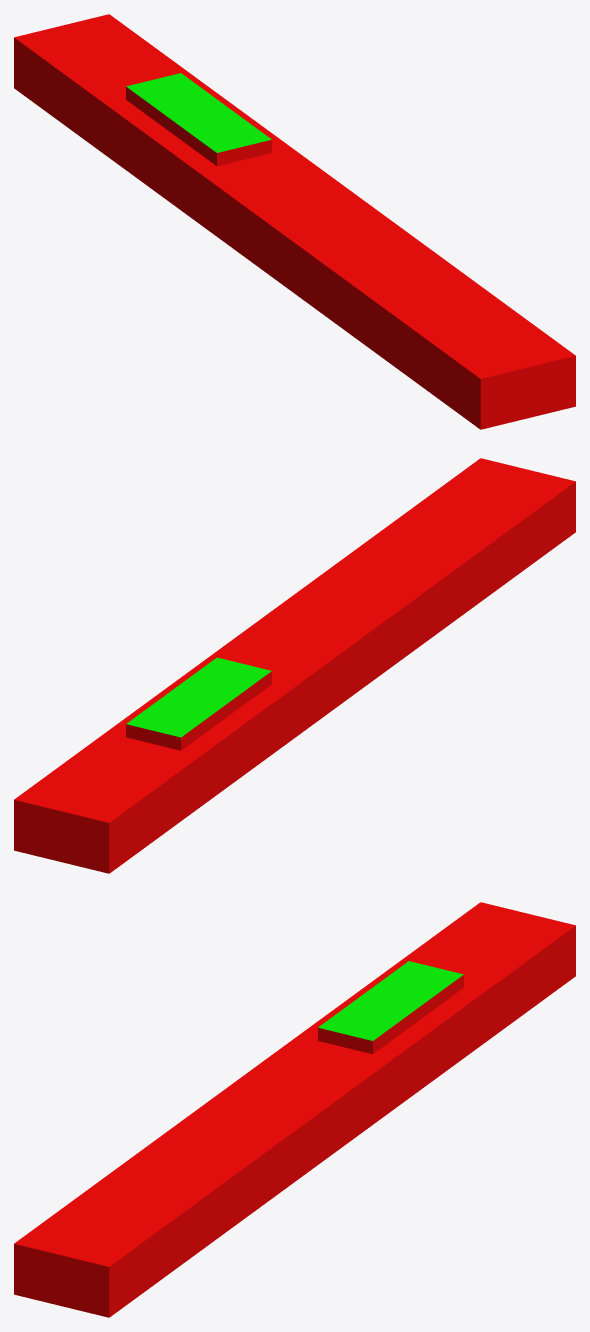
The model's file is labeled.obj.
3 views of the same model, one above another, from view 1: azimuth 30°, elevation 25°; view 2: azimuth 150°, elevation 25°; view 3: azimuth 330°, elevation 25° (orthographic).
Size of the model in its own units: 0.0176 by 0.0113 by 0.1491.
